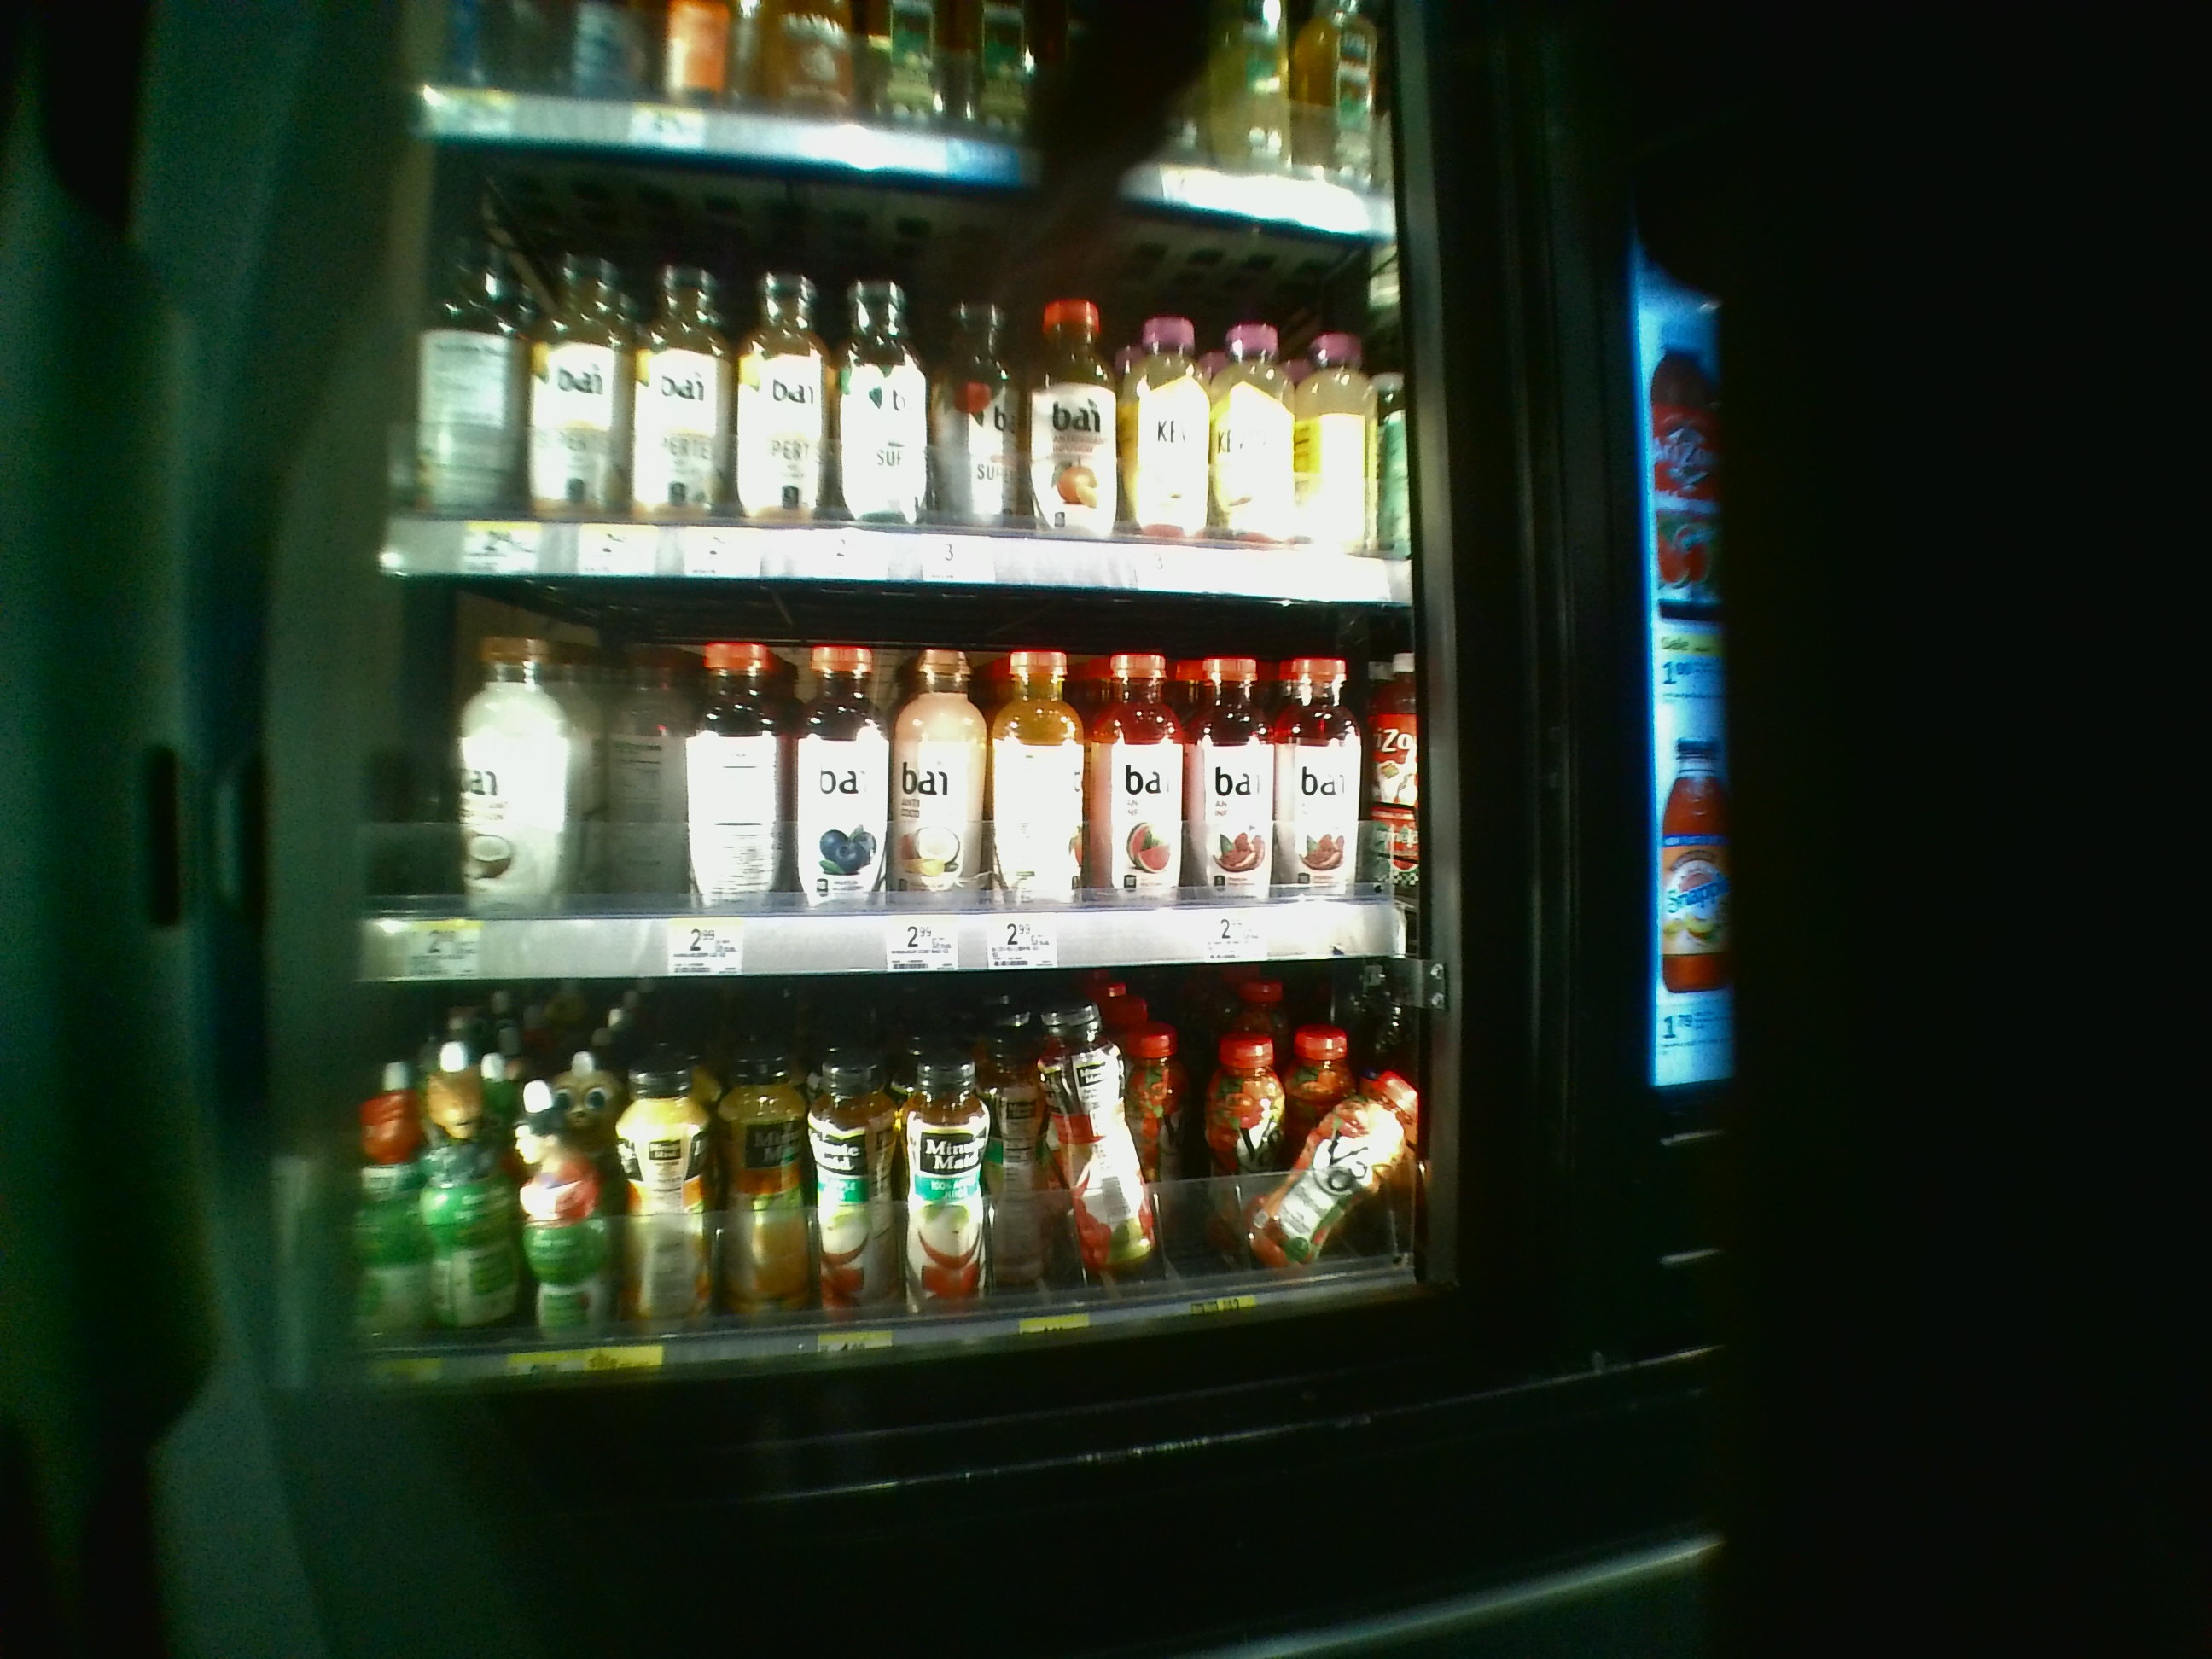shelf: (355, 985, 1423, 1406), (380, 153, 1406, 586), (364, 596, 1420, 974)
